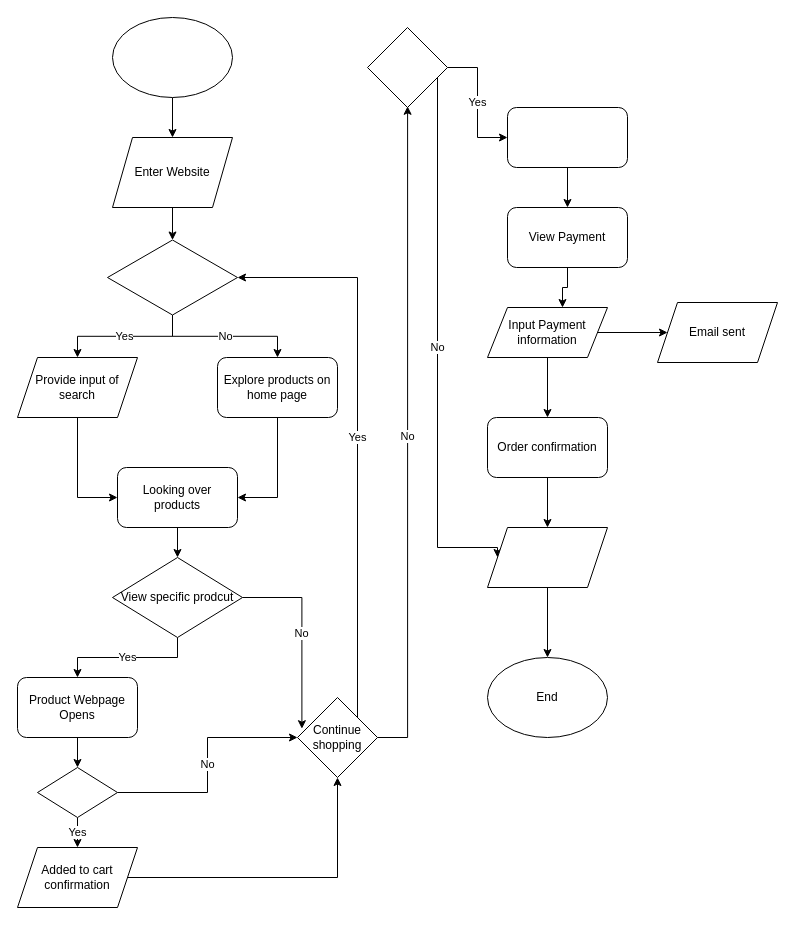
Image size: 795x925. Some labels were removed from this diagram. Each missing label, with the centre of its shape:
Add to cart: the point at 77,792
Checkout: the point at 407,67
Leave website: the point at 547,557
Reach 'View Cart' Screen: the point at 567,137
Search for product: the point at 172,277
Start: the point at 172,57
